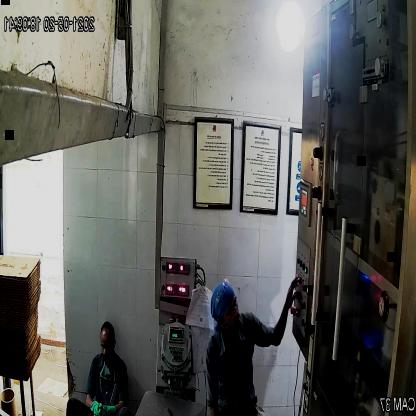no_goggles: (219, 298, 241, 322), (101, 337, 115, 353)
